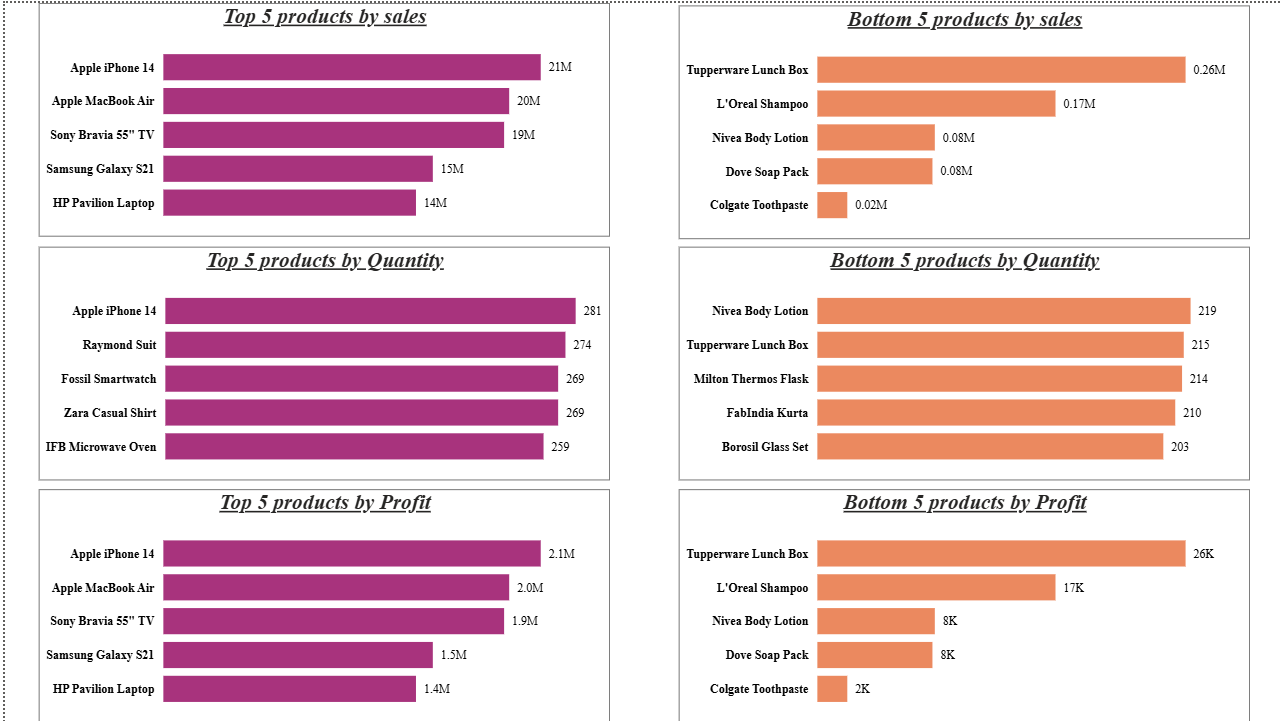

The dashboard page shown, as its layout file describes it:
{"tool":"powerbi","page":{"name":"Top/Bottom 5 Analysis","canvas":[1280,720],"ordinal":1},"visuals":[{"type":"barChart","title":"Top 5 products by sales","fields":{"Category":["Dim Product.Product Name"],"Y":["Sum(Fact Table.Net Sales    )"]},"box":[34.2,0,571.1,233.6],"z":0},{"type":"barChart","title":"Bottom 5 products by sales","fields":{"Category":["Dim Product.Product Name"],"Y":["Sum(Fact Table.Net Sales    )"]},"box":[673.8,2.4,571.1,233.6],"z":1000},{"type":"barChart","title":"Top 5 products by Quantity","fields":{"Category":["Dim Product.Product Name"],"Y":["Sum(Fact Table.Units Sold)"]},"box":[34.2,243.3,571.1,233.6],"z":2000},{"type":"barChart","title":"Bottom 5 products by Quantity","fields":{"Category":["Dim Product.Product Name"],"Y":["Sum(Fact Table.Units Sold)"]},"box":[673.8,243.3,571.1,233.6],"z":3000},{"type":"barChart","title":"Top 5 products by Profit","fields":{"Category":["Dim Product.Product Name"],"Y":["Sum(Fact Table.Profit)"]},"box":[34.2,486.7,571.1,233.6],"z":4000},{"type":"barChart","title":"Bottom 5 products by Profit","fields":{"Category":["Dim Product.Product Name"],"Y":["Sum(Fact Table.Profit)"]},"box":[673.8,486.7,571.1,233.6],"z":5000}]}

Visuals, with their boxes in screenshot pixels (x1, y1, x2, y2), scaled from the page's 1280x720 canvas onto the 1282x721 screenshot:
"Top 5 products by sales" barChart: [34, 0, 606, 234]
"Bottom 5 products by sales" barChart: [675, 2, 1247, 236]
"Top 5 products by Quantity" barChart: [34, 244, 606, 478]
"Bottom 5 products by Quantity" barChart: [675, 244, 1247, 478]
"Top 5 products by Profit" barChart: [34, 487, 606, 720]
"Bottom 5 products by Profit" barChart: [675, 487, 1247, 720]
